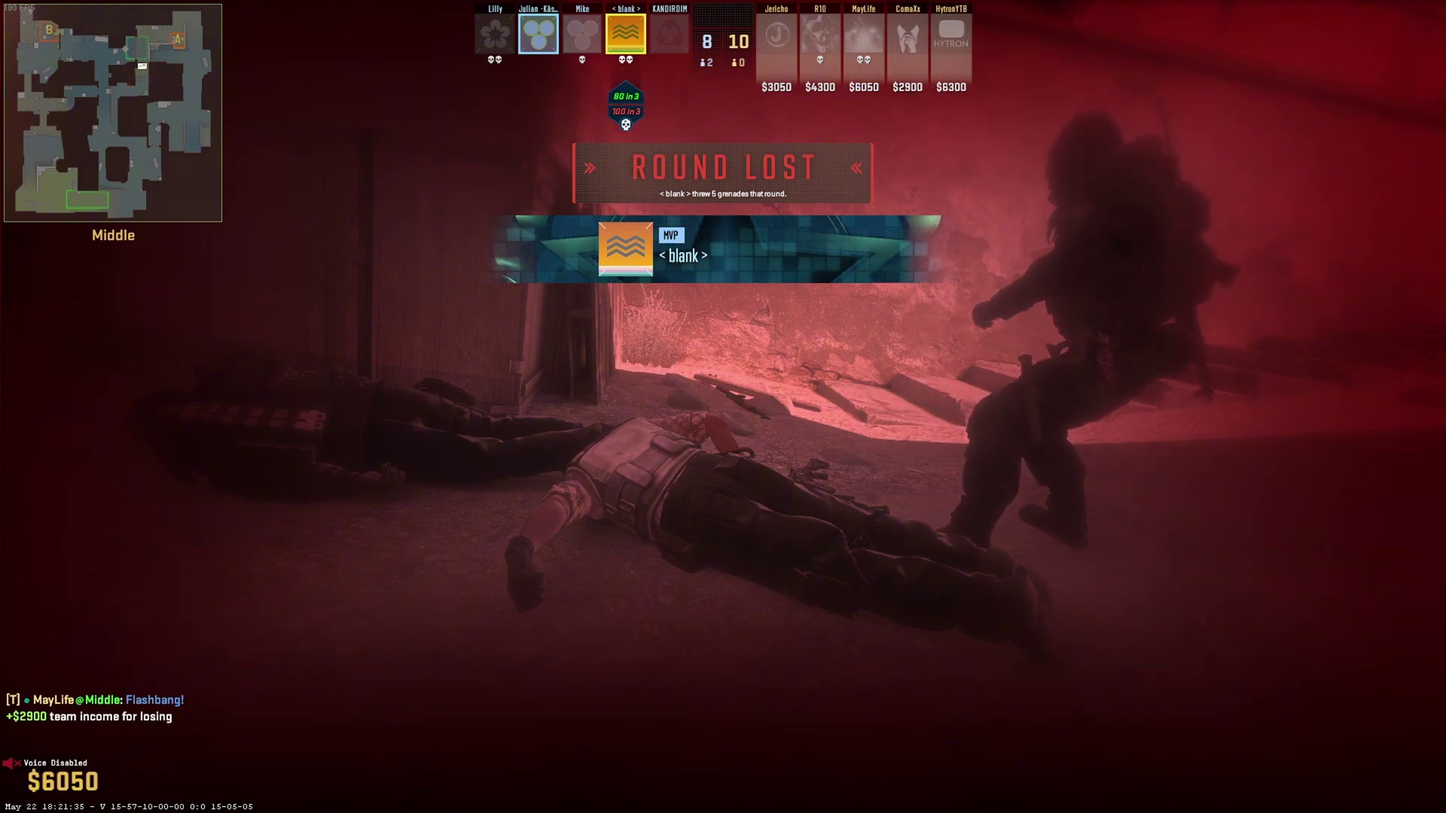CT: (950, 117, 1196, 538)
